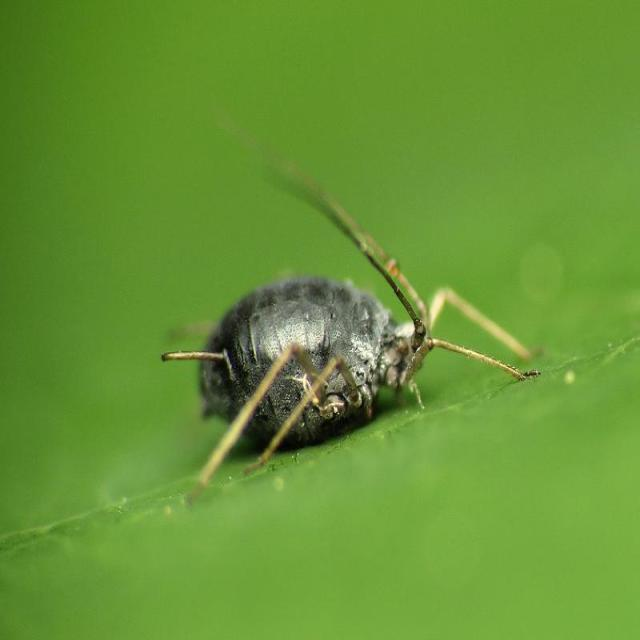Aphids: (147, 195, 549, 456)
